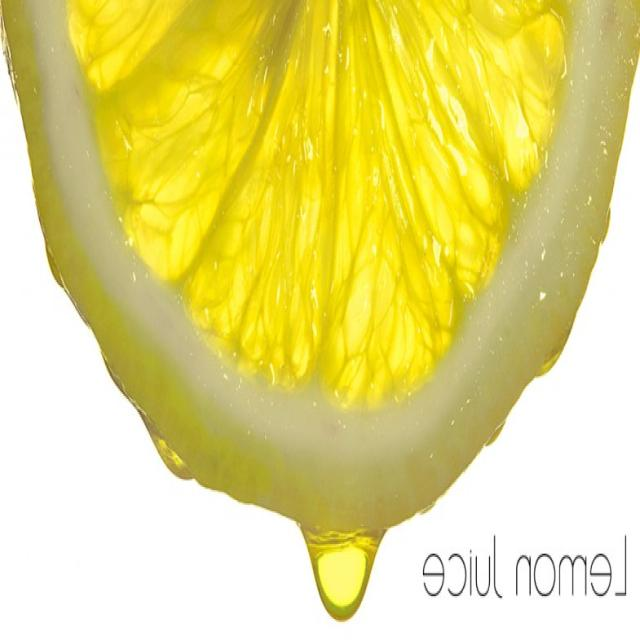lemon: (2, 2, 636, 530)
